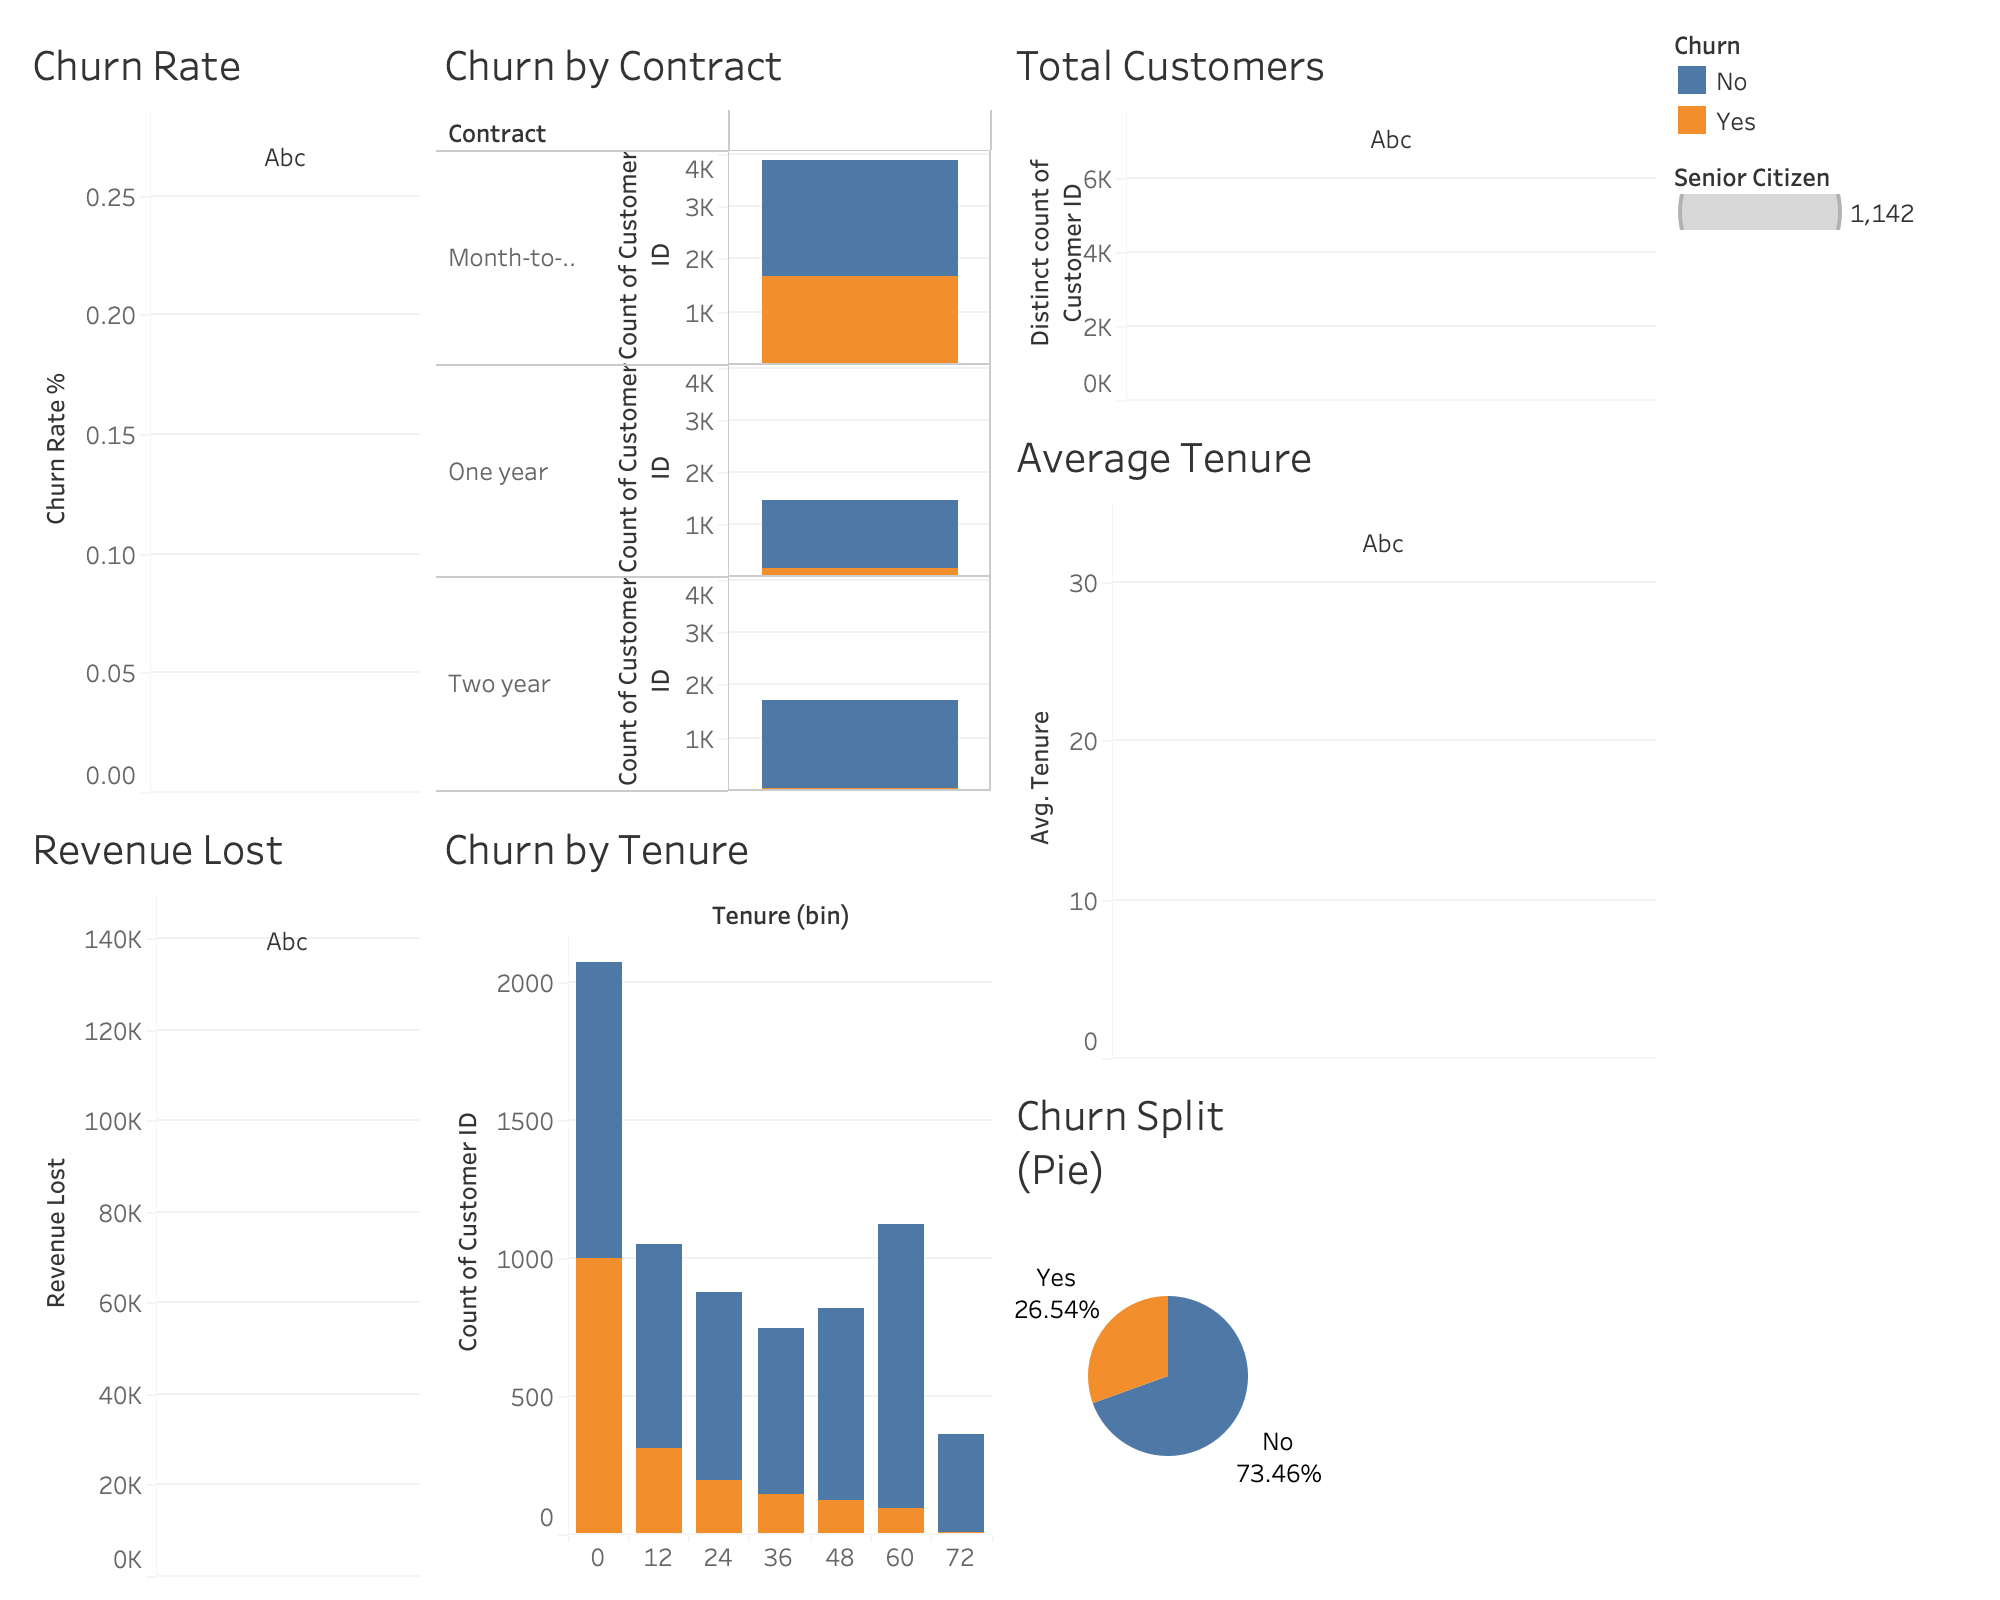

The dashboard page shown, as its layout file describes it:
{"tool":"tableau","page":{"name":"Executive Overview","canvas":[1000,800],"ordinal":1},"visuals":[{"type":"worksheet","title":"Churn Rate","mark":"Text","rows":["Calculation_0123056739753984"],"box":[8,8,206,392]},{"type":"worksheet","title":"Churn by Contract","mark":"Automatic","rows":["Contract","customerID"],"box":[214,8,286,392]},{"type":"worksheet","title":"Total Customers","mark":"Text","rows":["customerID"],"box":[500,8,332,196]},{"type":"legend","title":"Churn by Contract","param":"[federated.0icyj1y0edcubi1bv8d2u0jglee3].[none:Churn:nk]","box":[832,8,160,66]},{"type":"legend","title":"Churn Split (Pie)","param":"[federated.0icyj1y0edcubi1bv8d2u0jglee3].[sum:SeniorCitizen:qk]","box":[832,74,160,46]},{"type":"worksheet","title":"Average Tenure","mark":"Text","rows":["tenure"],"box":[500,204,332,329]},{"type":"worksheet","title":"Revenue Lost","mark":"Text","rows":["Calculation_0123056767578116"],"box":[8,400,206,392]},{"type":"worksheet","title":"Churn by Tenure","mark":"Automatic","rows":["customerID"],"cols":["Tenure (bin)"],"box":[214,400,286,392]},{"type":"worksheet","title":"Churn Split (Pie)","mark":"Pie","box":[500,533,332,259]}]}

Visuals, with their boxes in screenshot pixels (x1, y1, x2, y2), scaled from the page's 1000x800 canvas onto the 2000x1600 screenshot:
"Churn Rate" worksheet (Text marks): bbox=(16, 16, 428, 800)
"Churn by Contract" worksheet: bbox=(428, 16, 1000, 800)
"Total Customers" worksheet (Text marks): bbox=(1000, 16, 1664, 408)
"Churn by Contract" legend: bbox=(1664, 16, 1984, 148)
"Churn Split (Pie)" legend: bbox=(1664, 148, 1984, 240)
"Average Tenure" worksheet (Text marks): bbox=(1000, 408, 1664, 1066)
"Revenue Lost" worksheet (Text marks): bbox=(16, 800, 428, 1584)
"Churn by Tenure" worksheet: bbox=(428, 800, 1000, 1584)
"Churn Split (Pie)" worksheet (Pie marks): bbox=(1000, 1066, 1664, 1584)
